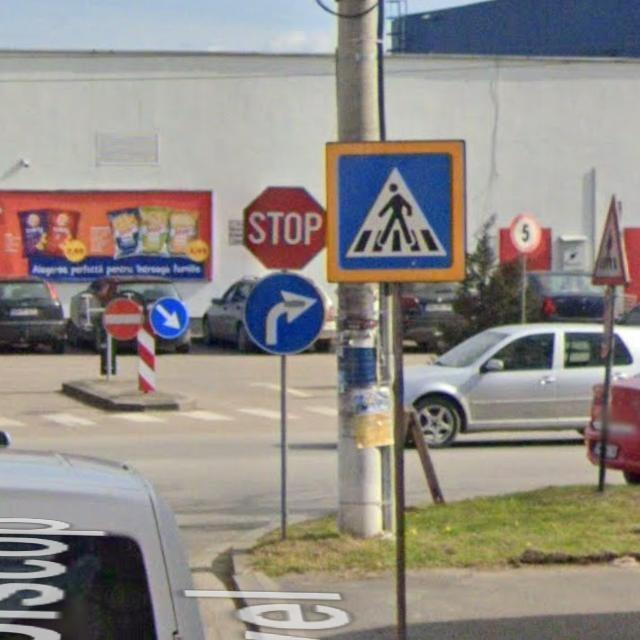info_crosswalk: (326, 138, 467, 283)
prio_stop: (243, 186, 327, 271)
warn_crosswalk: (591, 195, 632, 288)
